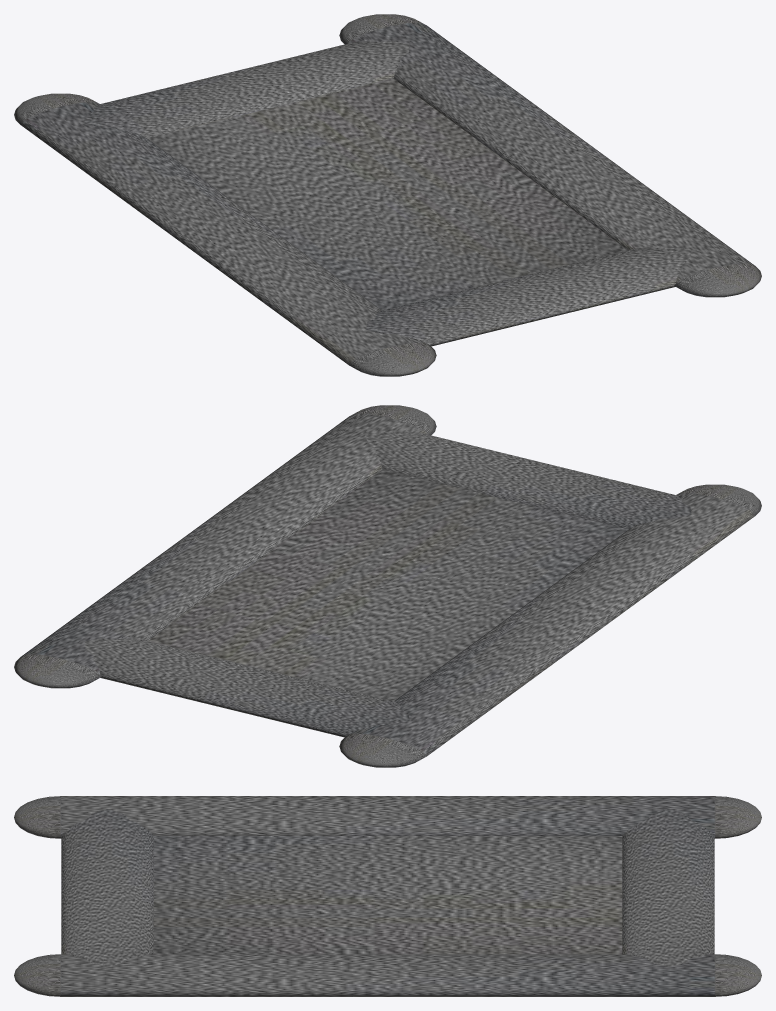
The model's file is Raft.FBX.
The picture shows the model from 3 angles, top to bottom: view 1: azimuth 30°, elevation 25°; view 2: azimuth 150°, elevation 25°; view 3: azimuth 270°, elevation 25°; orthographic projection.
Visible parts, largest first — view 1: Base, Right, Left, Front, Back; view 2: Base, Right, Left, Back, Front; view 3: Base, Left, Right, Back, Front.
Boxes of the visible parts, box(x1,y1,x2,y2) form: Base: box(147, 78, 627, 310); Right: box(14, 93, 436, 376); Left: box(339, 14, 761, 297); Front: box(366, 247, 691, 346); Back: box(84, 41, 409, 138); Base: box(148, 469, 628, 701); Right: box(339, 484, 761, 767); Left: box(14, 405, 436, 688); Back: box(84, 638, 409, 737); Front: box(366, 432, 691, 529); Base: box(153, 836, 622, 954); Left: box(14, 954, 761, 996); Right: box(14, 796, 761, 838); Back: box(622, 809, 714, 966); Front: box(61, 809, 153, 966).
Bounding box in the file's own units: 10 × 16 × 0.4.
1 material, 1 textured.
